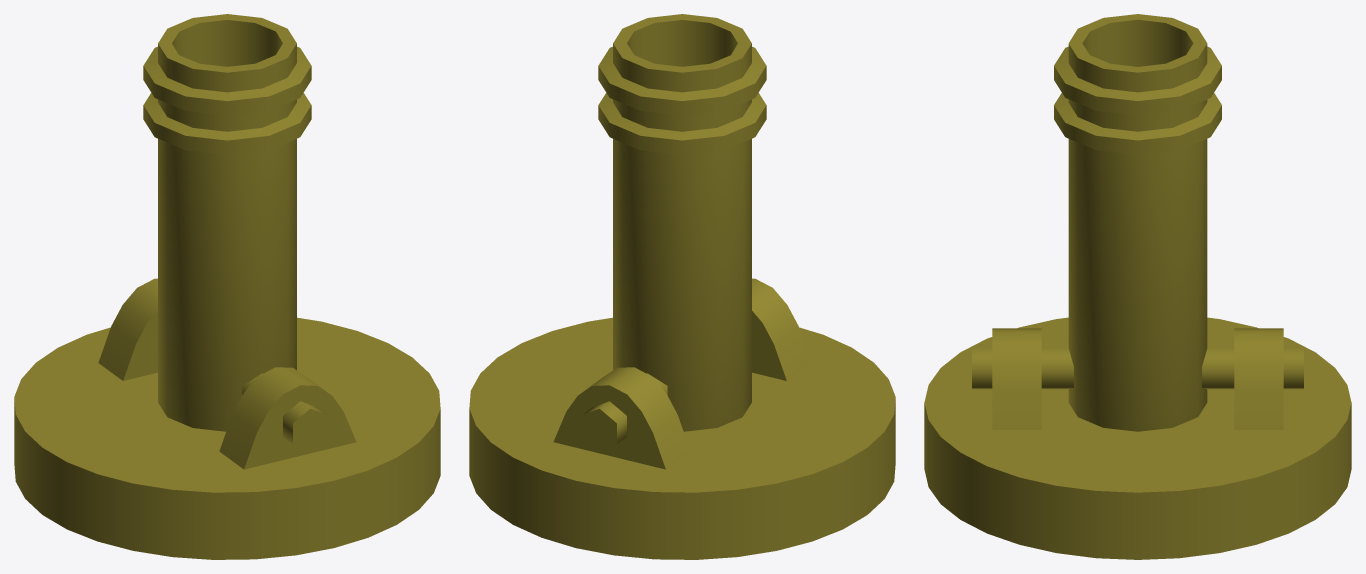
The model's file is Canon.fbx.
The picture shows the model from 3 angles, left to right: view 1: azimuth 30°, elevation 25°; view 2: azimuth 150°, elevation 25°; view 3: azimuth 270°, elevation 25°; orthographic projection.
Parts seen in each view (by area): view 1: Canon.Base, Canon; view 2: Canon.Base, Canon; view 3: Canon.Base, Canon.
Part boxes in pixels (<box>): Canon.Base: <box>14,278,440,559</box>; Canon: <box>143,14,311,431</box>; Canon.Base: <box>469,278,895,559</box>; Canon: <box>598,14,766,431</box>; Canon.Base: <box>924,317,1351,559</box>; Canon: <box>1054,14,1221,431</box>.
Size of the model in its own units: 55.49 by 61.13 by 55.49.
